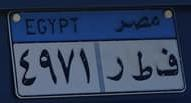1: (79, 47, 91, 85)
4: (16, 46, 36, 87)
7: (56, 46, 75, 86)
9: (37, 48, 57, 87)
Taa: (131, 48, 154, 85)
faa: (155, 45, 179, 78)
raa: (104, 54, 125, 84)
